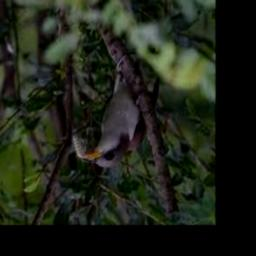Cuckoo: (83, 72, 159, 168)
